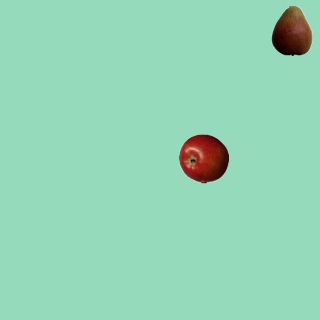Apple Braeburn: (178, 133, 228, 183)
Pear Forelle: (266, 5, 316, 55)
